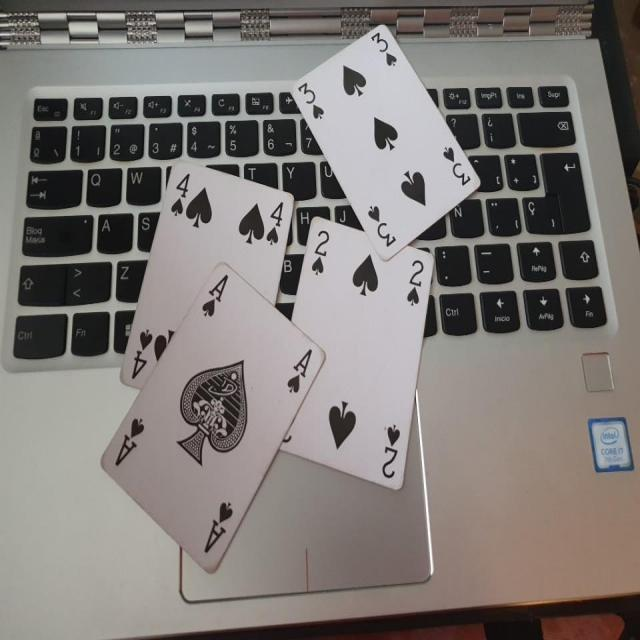2 Spades: (288, 215, 440, 492)
3 Spades: (282, 11, 482, 252)
4 Spades: (114, 162, 293, 394)
A Spades: (99, 266, 326, 586)
